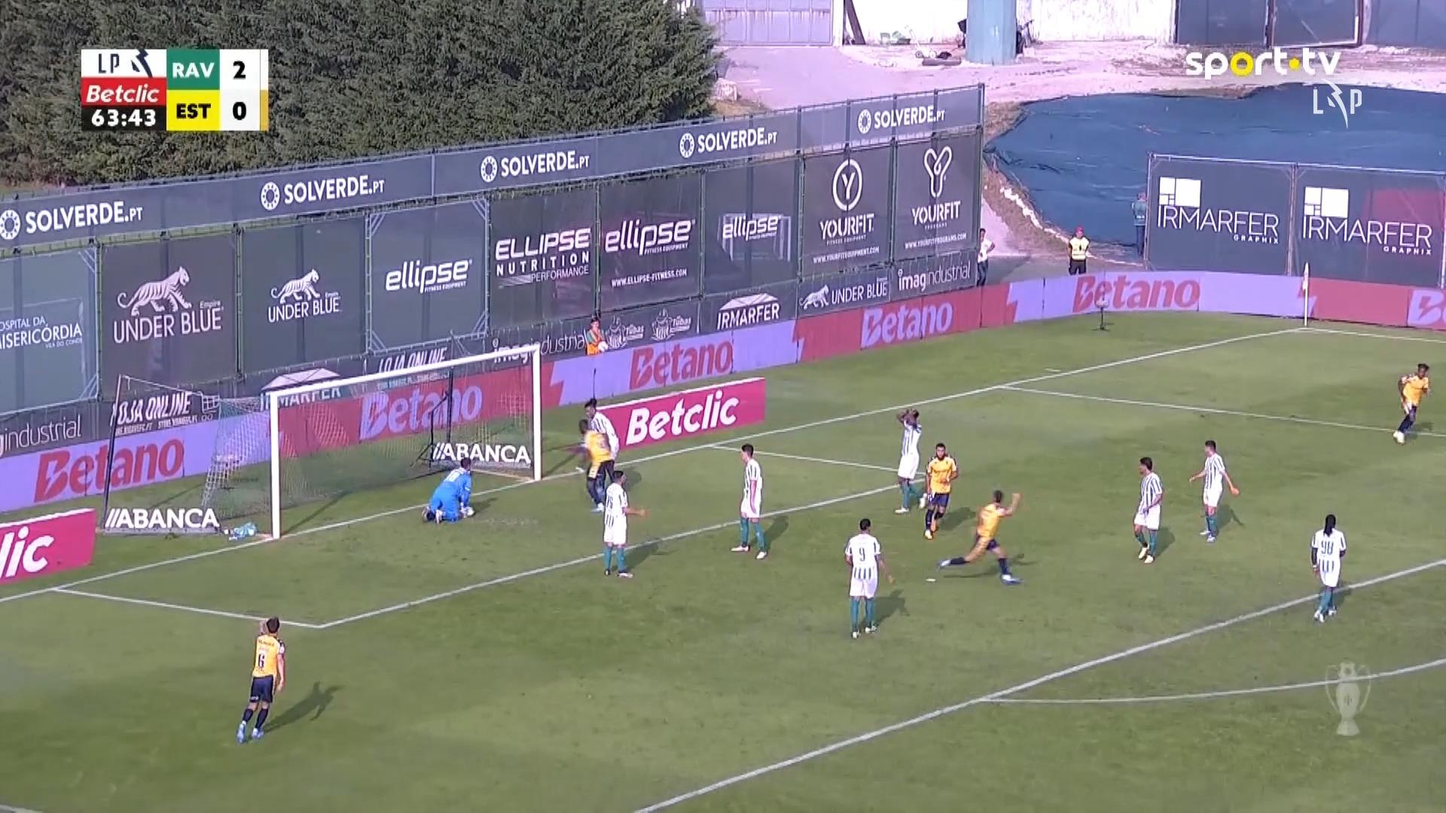ball: (462, 505, 474, 516)
goalkeeper: (420, 456, 475, 524)
player: (937, 488, 1023, 584), (235, 616, 286, 744), (843, 517, 894, 638), (1188, 438, 1239, 542), (600, 468, 645, 578), (578, 397, 619, 512), (731, 442, 768, 559), (1309, 513, 1347, 623), (920, 441, 958, 539), (1131, 455, 1163, 563), (892, 406, 924, 513), (1392, 361, 1431, 443)
